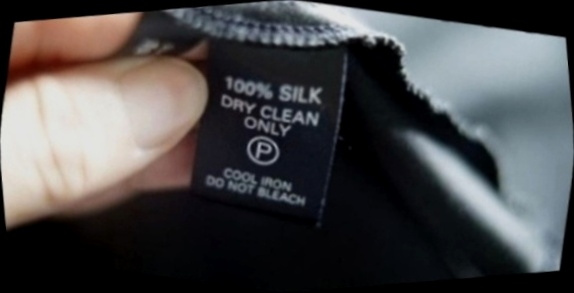dry_clean_any_solvent_except_trichloroethylene: (237, 123, 292, 177)
